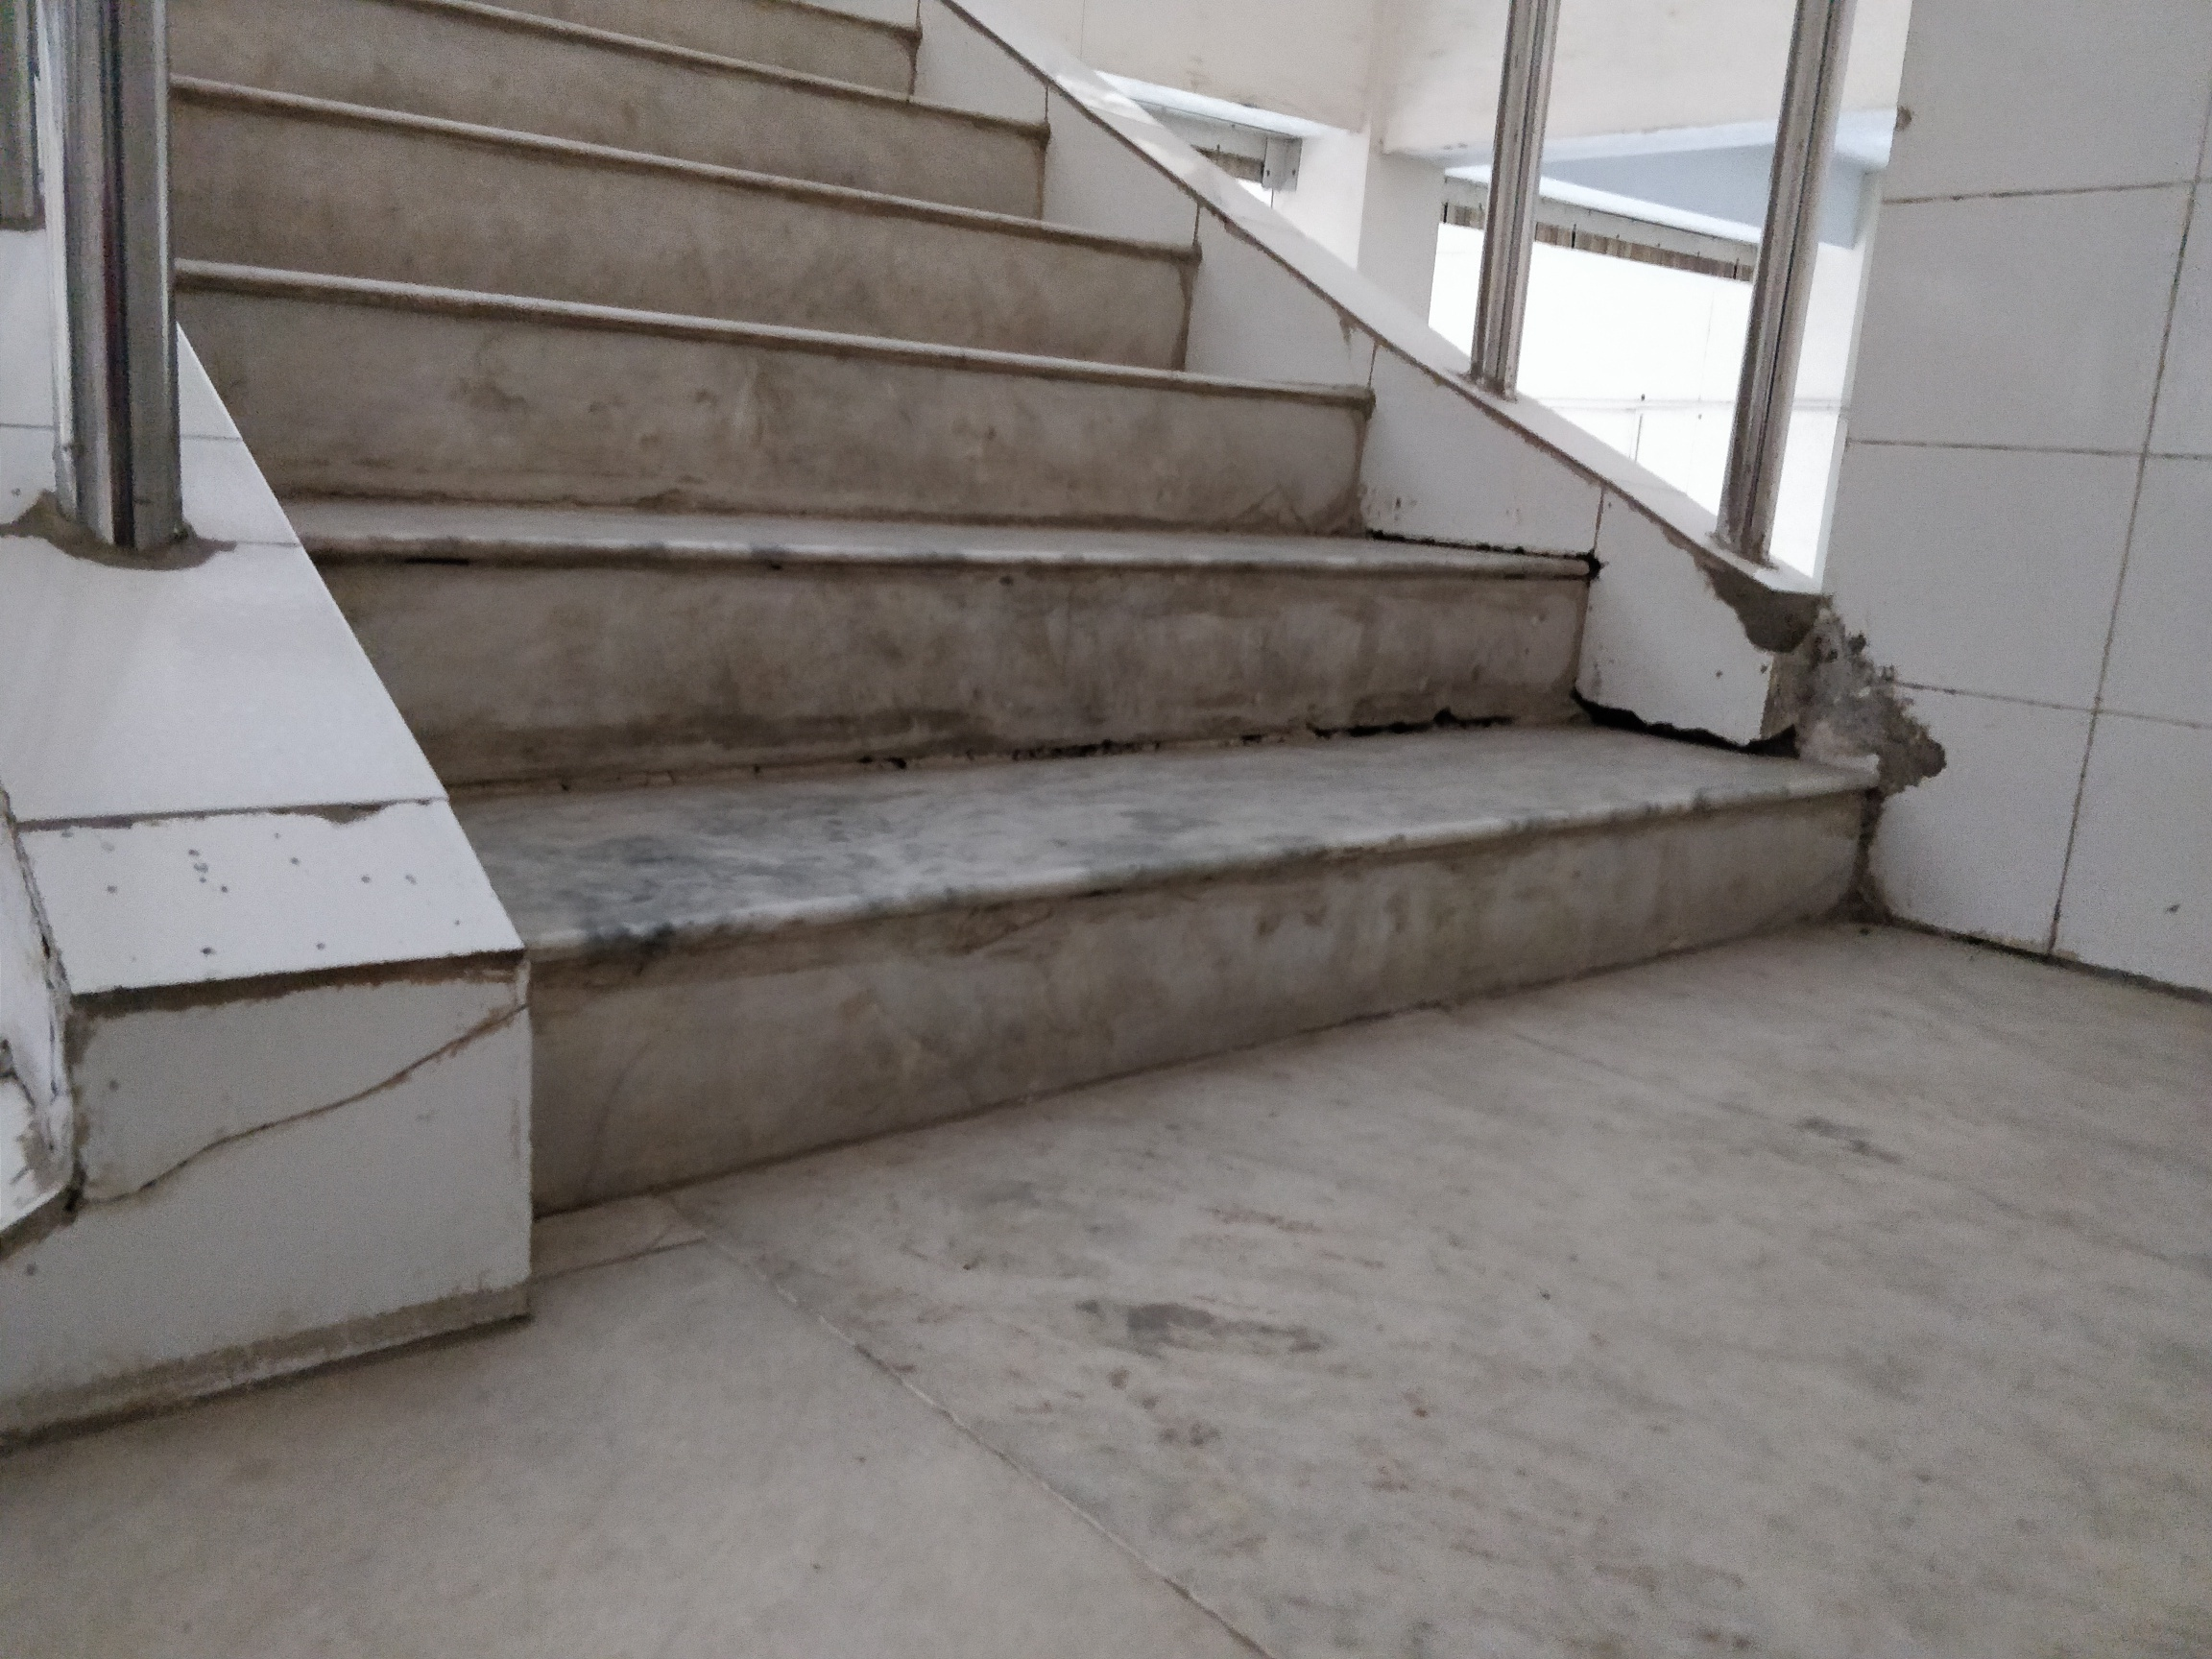stairs_up: (132, 10, 1897, 1237)
